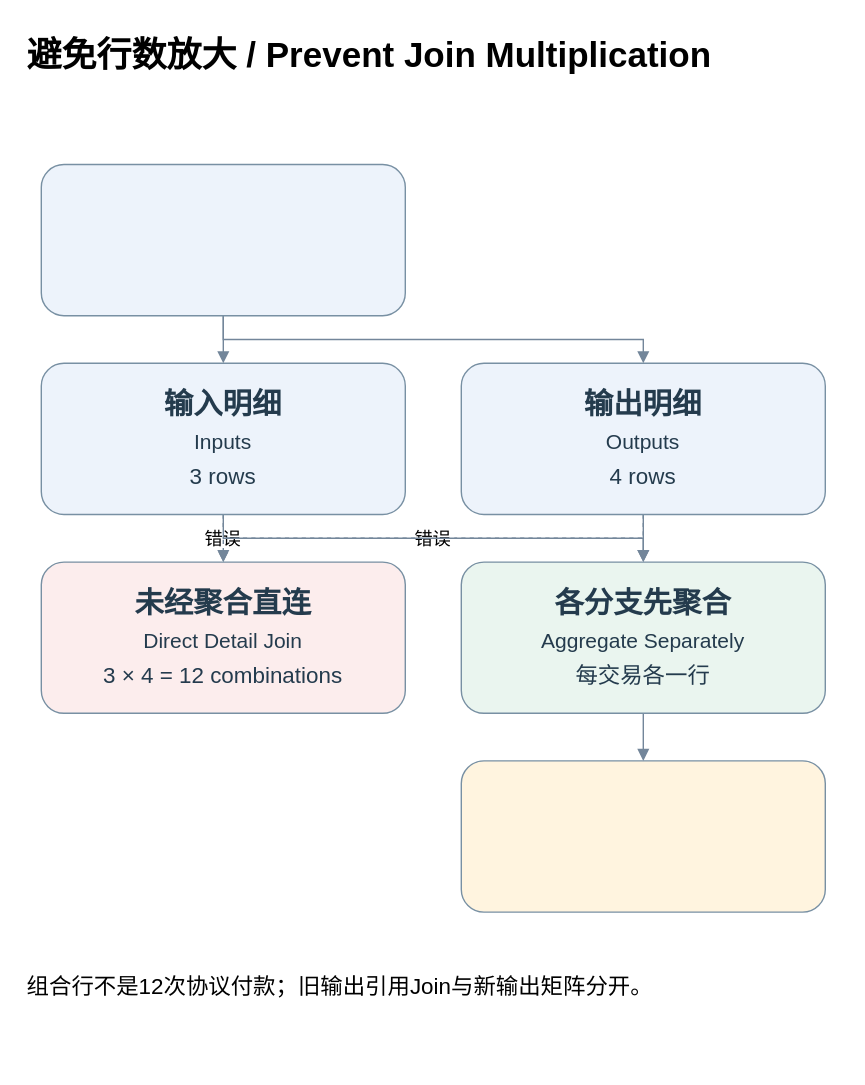
Some shapes in this 865 by 1085 pixel diagram are drawn without their labels. The shapes that lost their labels are listed below. From the top down, each one's centre as x and y in pixels, then its label:
At (222,239): "一笔交易 One Transaction 1 row".
At (642,836): "交易层汇总 Transaction Summary Fee不重复累加".
